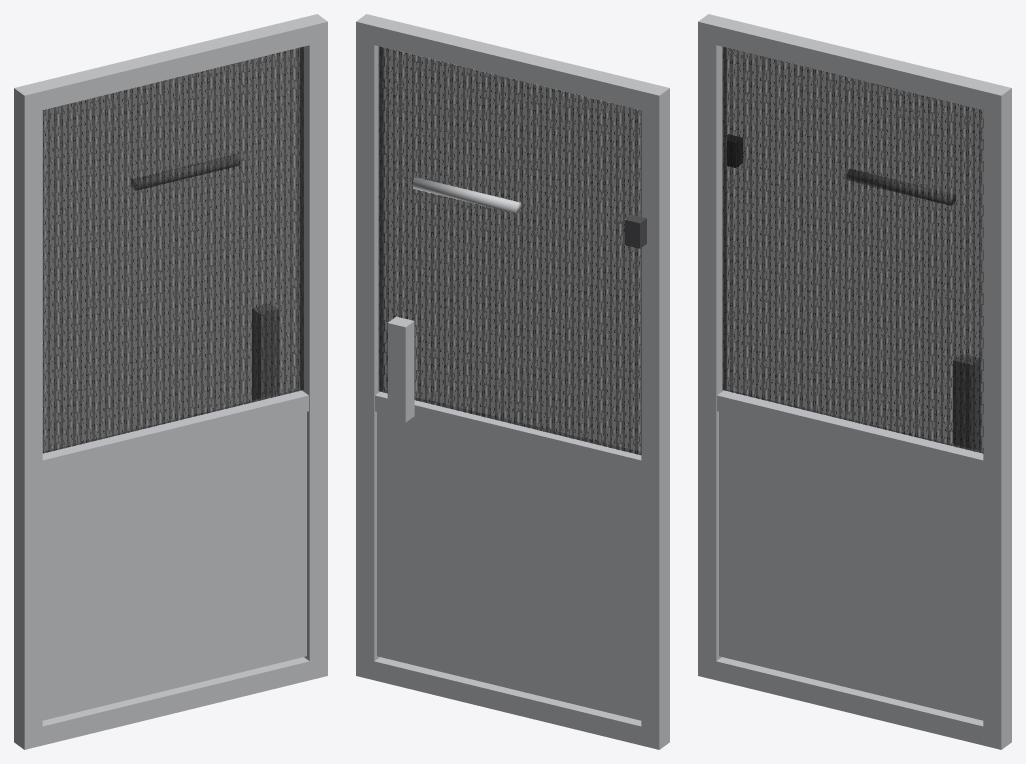
The model's file is WK_DOOR_ScreenDoor.glb.
3 renders of one model, left to right at view 1: azimuth 30°, elevation 25°; view 2: azimuth 150°, elevation 25°; view 3: azimuth 330°, elevation 25°, orthographic.
Parts seen in each view (by area): view 1: WK_DOOR_ScreenDoor_P07, WK_DOOR_ScreenDoor_P06, WK_DOOR_ScreenDoor_P01, WK_DOOR_ScreenDoor_P02, WK_DOOR_ScreenDoor_P04, WK_DOOR_ScreenDoor_P03, WK_DOOR_ScreenDoor_P05, WK_DOOR_ScreenDoor_P08, WK_DOOR_ScreenDoor_P09; view 2: WK_DOOR_ScreenDoor_P07, WK_DOOR_ScreenDoor_P06, WK_DOOR_ScreenDoor_P01, WK_DOOR_ScreenDoor_P02, WK_DOOR_ScreenDoor_P04, WK_DOOR_ScreenDoor_P03, WK_DOOR_ScreenDoor_P05, WK_DOOR_ScreenDoor_P08, WK_DOOR_ScreenDoor_P09, WK_DOOR_ScreenDoor_P10; view 3: WK_DOOR_ScreenDoor_P07, WK_DOOR_ScreenDoor_P06, WK_DOOR_ScreenDoor_P02, WK_DOOR_ScreenDoor_P01, WK_DOOR_ScreenDoor_P04, WK_DOOR_ScreenDoor_P03, WK_DOOR_ScreenDoor_P05, WK_DOOR_ScreenDoor_P08, WK_DOOR_ScreenDoor_P09.
Part boxes in pixels (x1,y1,x2,y2): WK_DOOR_ScreenDoor_P07: [42, 46, 303, 453]; WK_DOOR_ScreenDoor_P06: [42, 412, 306, 720]; WK_DOOR_ScreenDoor_P01: [14, 91, 42, 743]; WK_DOOR_ScreenDoor_P02: [299, 25, 327, 676]; WK_DOOR_ScreenDoor_P04: [14, 14, 327, 114]; WK_DOOR_ScreenDoor_P03: [14, 657, 327, 749]; WK_DOOR_ScreenDoor_P05: [15, 389, 308, 480]; WK_DOOR_ScreenDoor_P08: [252, 304, 278, 399]; WK_DOOR_ScreenDoor_P09: [131, 154, 239, 190]; WK_DOOR_ScreenDoor_P07: [378, 46, 641, 454]; WK_DOOR_ScreenDoor_P06: [377, 412, 641, 720]; WK_DOOR_ScreenDoor_P01: [641, 91, 669, 744]; WK_DOOR_ScreenDoor_P02: [356, 25, 384, 676]; WK_DOOR_ScreenDoor_P04: [356, 14, 669, 114]; WK_DOOR_ScreenDoor_P03: [356, 657, 669, 749]; WK_DOOR_ScreenDoor_P05: [375, 389, 668, 480]; WK_DOOR_ScreenDoor_P08: [387, 316, 414, 422]; WK_DOOR_ScreenDoor_P09: [412, 177, 521, 213]; WK_DOOR_ScreenDoor_P10: [625, 214, 646, 248]; WK_DOOR_ScreenDoor_P07: [722, 46, 983, 453]; WK_DOOR_ScreenDoor_P06: [719, 412, 983, 720]; WK_DOOR_ScreenDoor_P02: [983, 91, 1011, 742]; WK_DOOR_ScreenDoor_P01: [698, 25, 726, 676]; WK_DOOR_ScreenDoor_P04: [698, 14, 1011, 114]; WK_DOOR_ScreenDoor_P03: [698, 657, 1011, 749]; WK_DOOR_ScreenDoor_P05: [717, 389, 1010, 480]; WK_DOOR_ScreenDoor_P08: [953, 354, 980, 450]; WK_DOOR_ScreenDoor_P09: [847, 169, 955, 205].
Size of the model in its own units: 1 by 2.06 by 0.138.
Materials: 3 (1 with a texture image).
